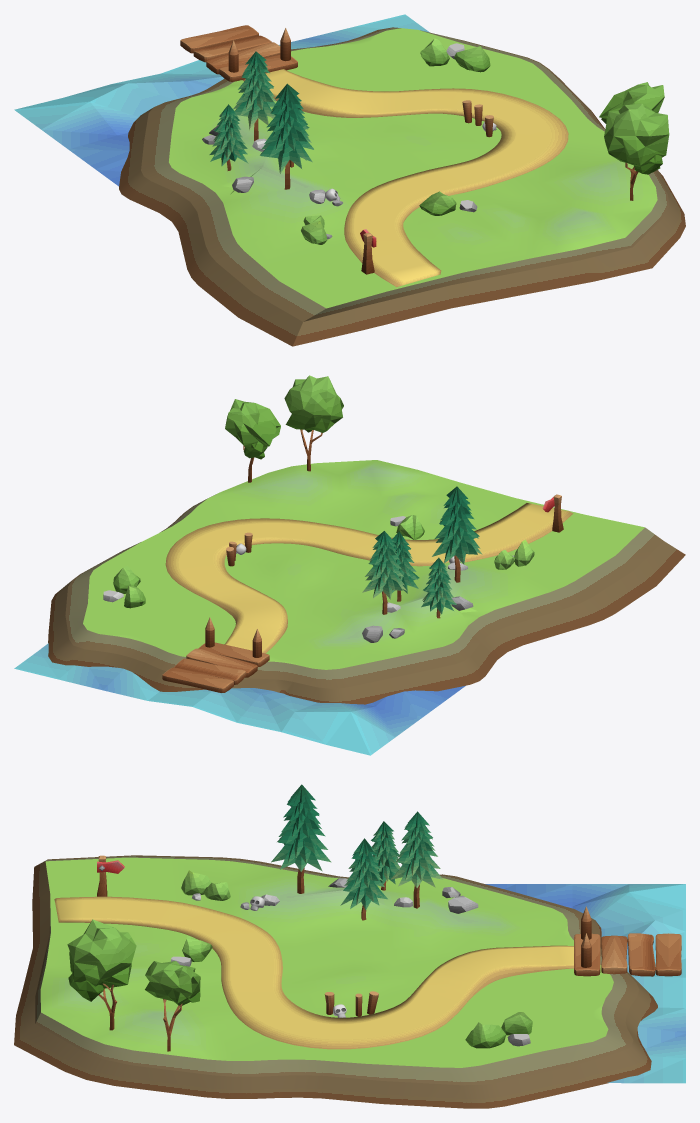
Rendered from Map_01 (2).fbx.
The picture shows the model from 3 angles, top to bottom: view 1: azimuth 30°, elevation 25°; view 2: azimuth 150°, elevation 25°; view 3: azimuth 270°, elevation 25°; orthographic projection. The views are drawn at different scales.
Parts seen in each view (by area): view 1: Terrain, Trail, Water, Fir-trees, Trees, Bridge, Bushes_And_Stone_01, Bush_And_Stone, Bushes_And_Stone_02, Fence, Sign; view 2: Terrain, Trail, Water, Fir-trees, Trees, Bridge, Bushes_And_Stone_01, Bushes_And_Stone_02, Bush_And_Stone; view 3: Terrain, Trail, Water, Fir-trees, Trees, Bridge, Bushes_And_Stone_01, Bushes_And_Stone_02, Fence, Bush_And_Stone, Sign.
Part boxes in pixels (x1,y1,x2,y2): Terrain: (119, 27, 685, 346); Trail: (242, 69, 568, 287); Water: (14, 14, 429, 186); Fir-trees: (202, 51, 313, 192); Trees: (599, 82, 669, 200); Bridge: (180, 25, 297, 81); Bushes_And_Stone_01: (420, 38, 490, 72); Bush_And_Stone: (419, 191, 477, 215); Bushes_And_Stone_02: (301, 215, 332, 244); Fence: (462, 100, 496, 137); Sign: (360, 229, 376, 274); Terrain: (48, 460, 685, 704); Trail: (165, 503, 573, 653); Water: (14, 643, 465, 755); Fir-trees: (362, 486, 482, 642); Trees: (225, 375, 343, 482); Bridge: (162, 617, 269, 692); Bushes_And_Stone_01: (103, 566, 145, 608); Bushes_And_Stone_02: (494, 539, 534, 569); Bush_And_Stone: (390, 515, 424, 539); Terrain: (14, 855, 657, 1108); Trail: (54, 896, 573, 1049); Water: (485, 884, 685, 1083); Fir-trees: (271, 784, 478, 920); Trees: (67, 919, 200, 1051); Bridge: (574, 906, 681, 976); Bushes_And_Stone_01: (465, 1012, 532, 1048); Bushes_And_Stone_02: (181, 870, 230, 900); Fence: (324, 991, 378, 1017); Bush_And_Stone: (171, 935, 212, 966); Sign: (97, 855, 124, 896).
Bounding box in the file's own units: 769 × 210 × 882.
